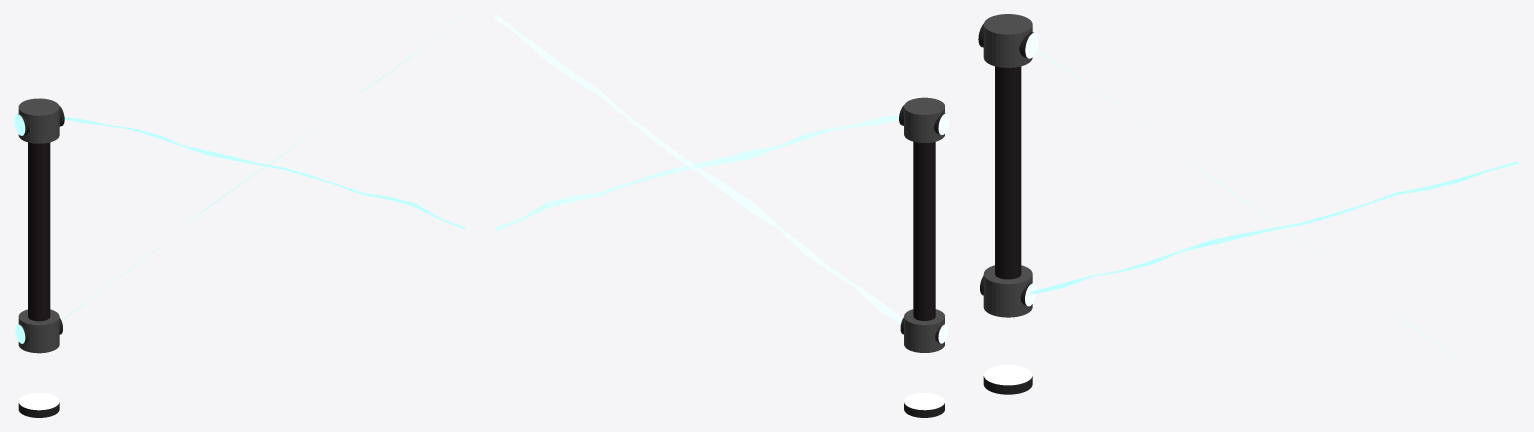
File: Mo_ForestVillageFence01.fbx
3 views of the same model, side by side, from view 1: azimuth 30°, elevation 25°; view 2: azimuth 150°, elevation 25°; view 3: azimuth 330°, elevation 25° (orthographic). The views are drawn at different scales.
Visible parts, largest first — view 1: Fence; view 2: Fence; view 3: Fence.
Part boxes in pixels (x1=…): Fence: x1=14, y1=14, x2=465, y2=417; Fence: x1=494, y1=14, x2=949, y2=417; Fence: x1=978, y1=14, x2=1518, y2=415.
Bounding box in the file's own units: 512 × 331 × 40.8.
